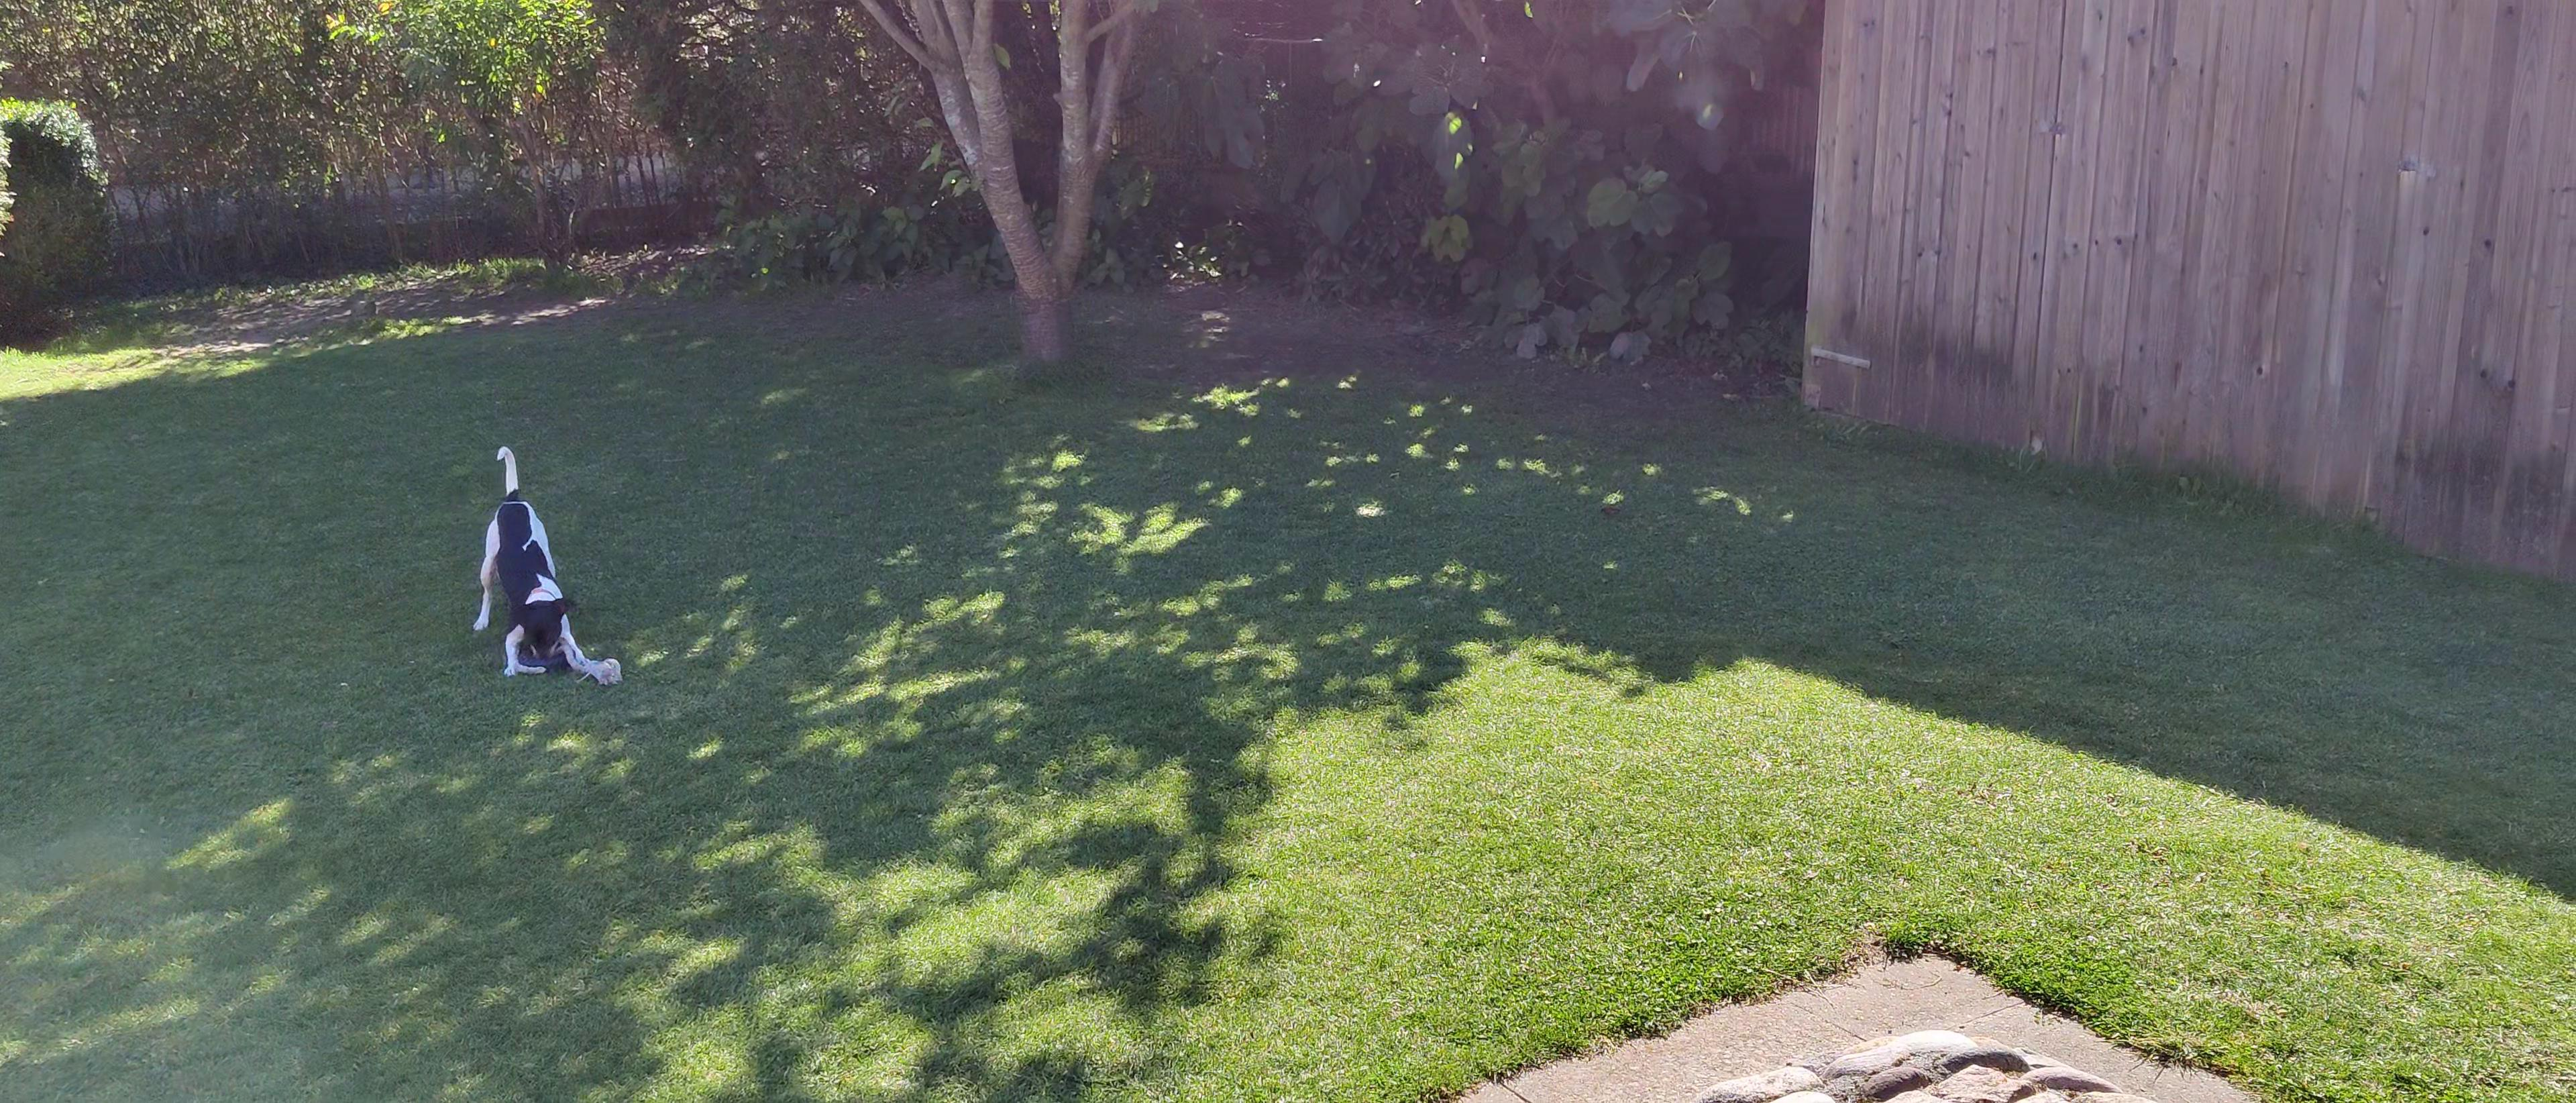Dog: (455, 436, 605, 692)
